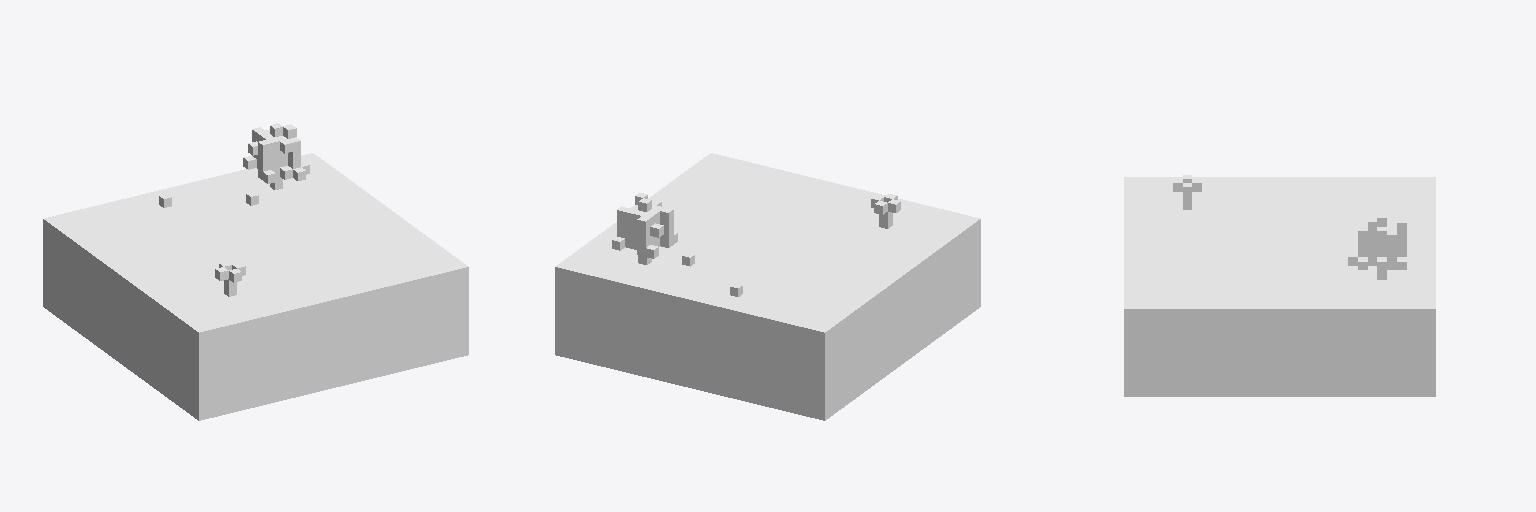
Rendered from Overworld_Beach_05.obj.
The picture shows the model from 3 angles: view 1: azimuth 30°, elevation 25°; view 2: azimuth 150°, elevation 25°; view 3: azimuth 270°, elevation 25°; orthographic projection.
Parts seen in each view (by area): view 1: object 1; view 2: object 1; view 3: object 1.
Boxes of the visible parts, <box> form: object 1: <box>43,123,468,420</box>; object 1: <box>555,153,980,420</box>; object 1: <box>1124,175,1435,396</box>.
Bounding box in the file's own units: 3.2 × 1.7 × 3.2.